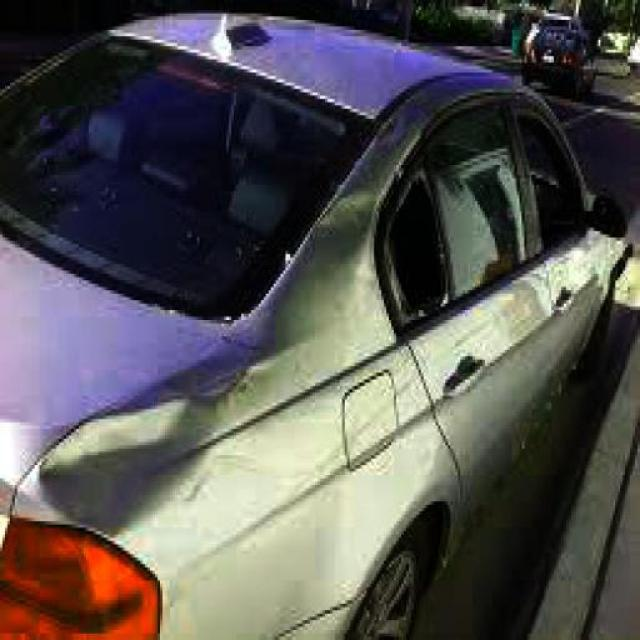Car-Damage: (21, 344, 282, 551), (385, 168, 453, 323), (318, 181, 385, 271)
